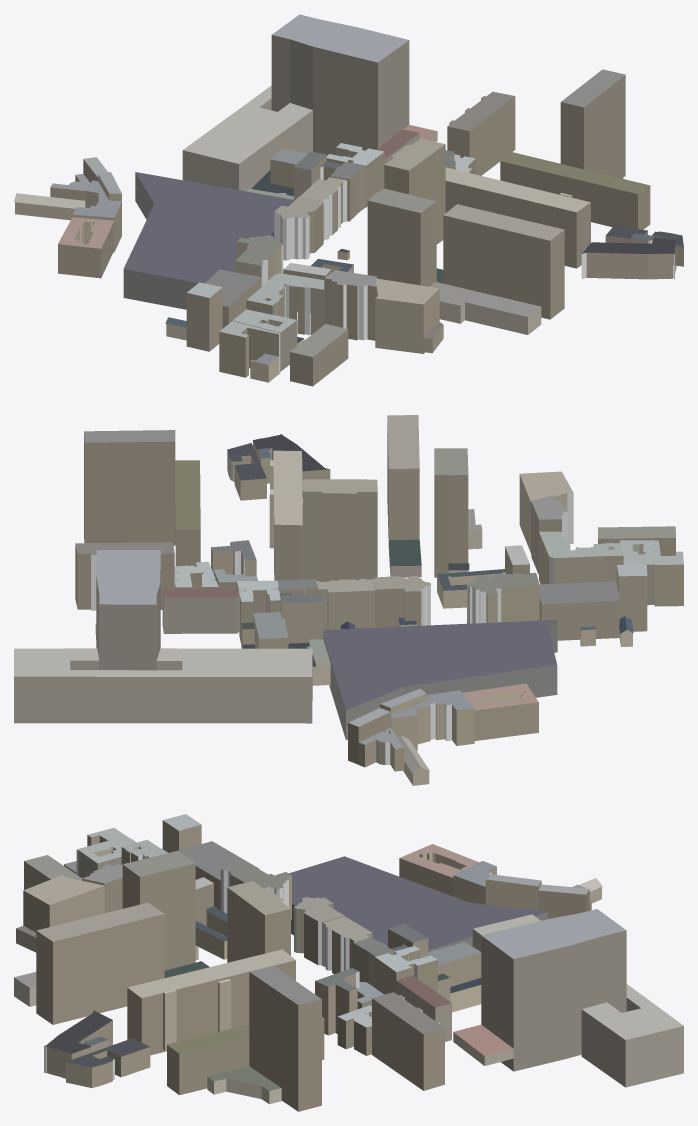
3 views of the same model, one above another, from view 1: azimuth 30°, elevation 25°; view 2: azimuth 150°, elevation 25°; view 3: azimuth 270°, elevation 25° (orthographic). The views are drawn at different scales.
Parts seen in each view (by area): view 1: tuile; view 2: tuile; view 3: tuile.
Part boxes in pixels (<box>): tuile: <box>14,14,683,386</box>; tuile: <box>14,415,683,785</box>; tuile: <box>14,814,683,1111</box>.
Bounding box in the file's own units: 272 × 64.56 × 297.
